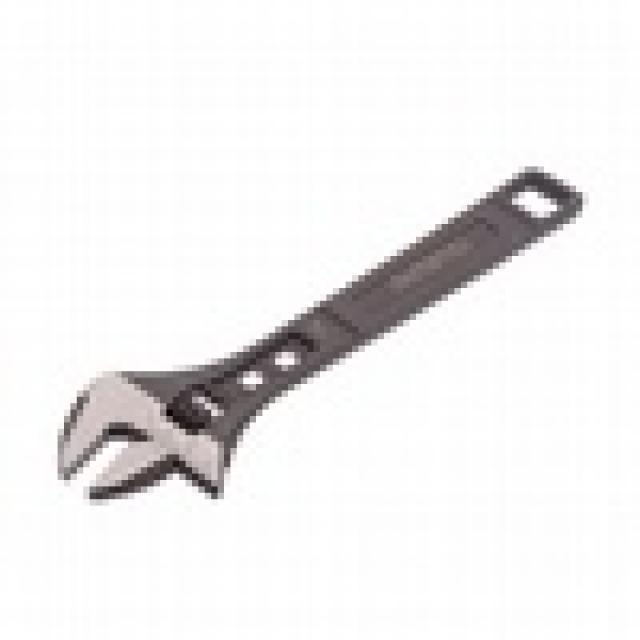wrench: (46, 153, 590, 518)
